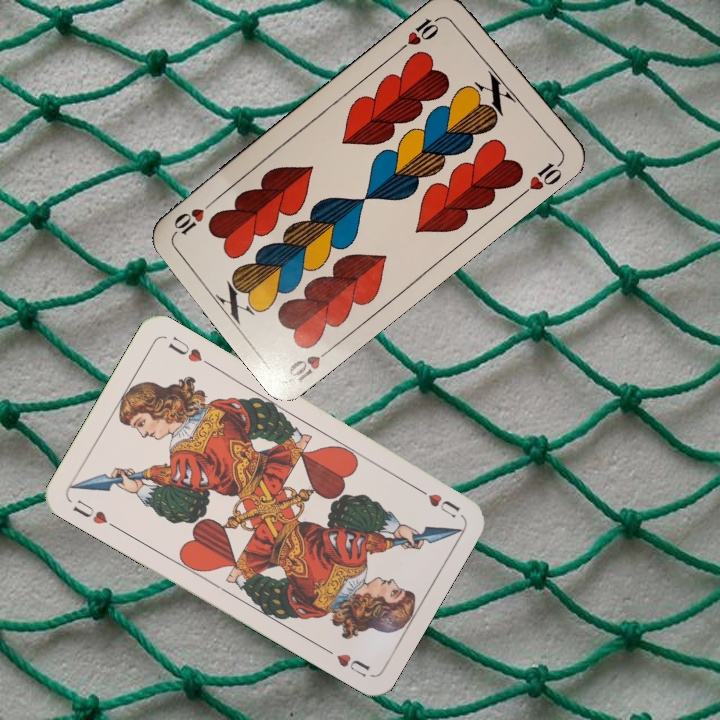H10: (285, 341, 339, 385), (396, 11, 446, 54)
HU: (410, 482, 463, 521), (68, 495, 120, 532)
